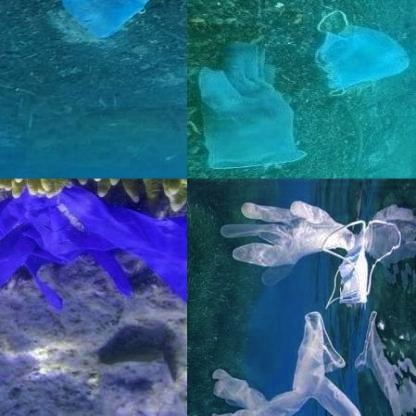Mask: (312, 9, 414, 97), (324, 224, 376, 318), (48, 0, 151, 40)
glove: (0, 194, 186, 318), (208, 307, 370, 415), (198, 39, 306, 173), (217, 195, 334, 290)
